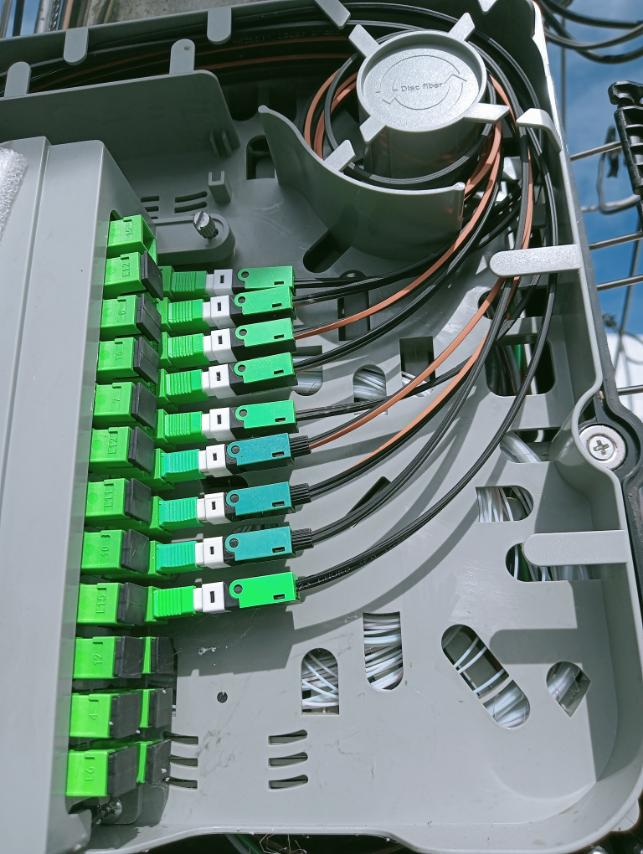no dust cap: (142, 216, 158, 264)
occupied: (153, 520, 321, 576), (157, 477, 319, 531), (162, 432, 318, 484), (152, 569, 306, 620), (167, 349, 305, 402), (166, 396, 308, 444), (167, 316, 301, 364), (167, 283, 301, 329), (170, 265, 306, 298)
vacant: (114, 746, 137, 798), (120, 637, 145, 680), (129, 478, 152, 524), (133, 427, 155, 475), (114, 695, 138, 739), (141, 294, 162, 343), (149, 741, 172, 785), (137, 381, 157, 431), (126, 530, 149, 573), (125, 583, 147, 627), (140, 337, 159, 383), (146, 251, 163, 300), (154, 689, 173, 728), (155, 637, 175, 674)
